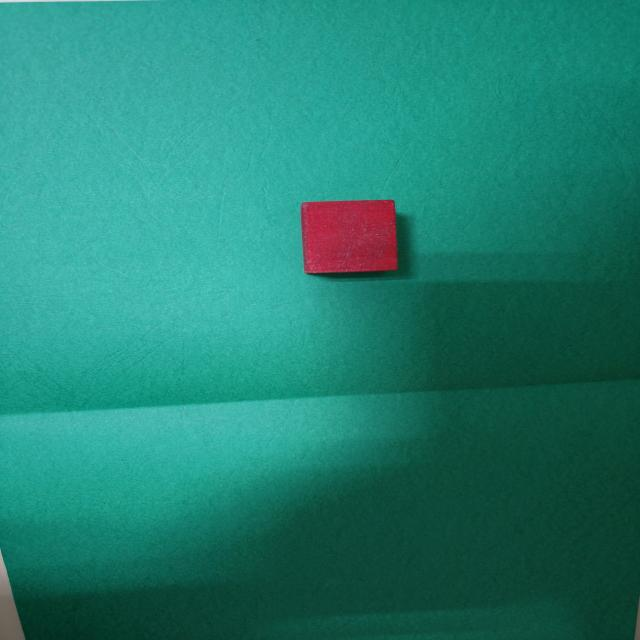red_block: (306, 203, 395, 270)
